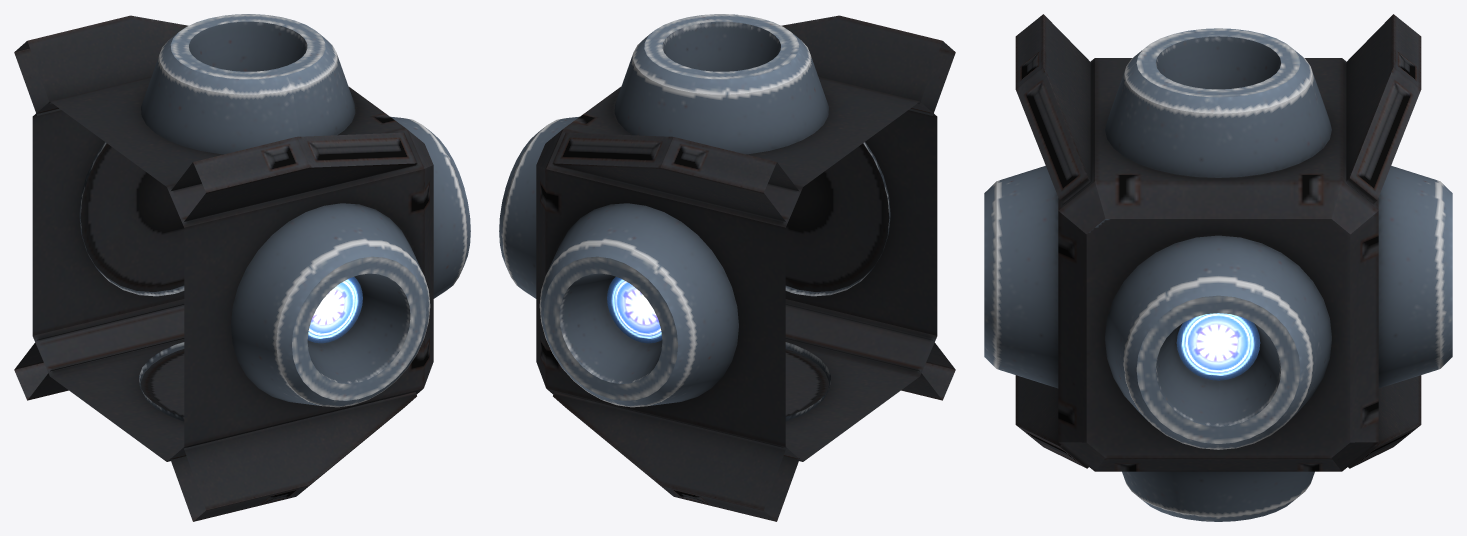
The model's file is ManeuveringThrusterArray2.fbx.
3 renders of one model, left to right at view 1: azimuth 30°, elevation 25°; view 2: azimuth 150°, elevation 25°; view 3: azimuth 270°, elevation 25°, orthographic. The views are drawn at different scales.
Visible parts, largest first — view 1: ManeuveringThrusterArray2; view 2: ManeuveringThrusterArray2; view 3: ManeuveringThrusterArray2.
Boxes of the visible parts, box(x1,y1,x2,y2) form: ManeuveringThrusterArray2: box(14, 14, 470, 521); ManeuveringThrusterArray2: box(499, 14, 955, 521); ManeuveringThrusterArray2: box(984, 14, 1452, 521).
Size of the model in its own units: 14.39 by 17.07 by 17.07.
